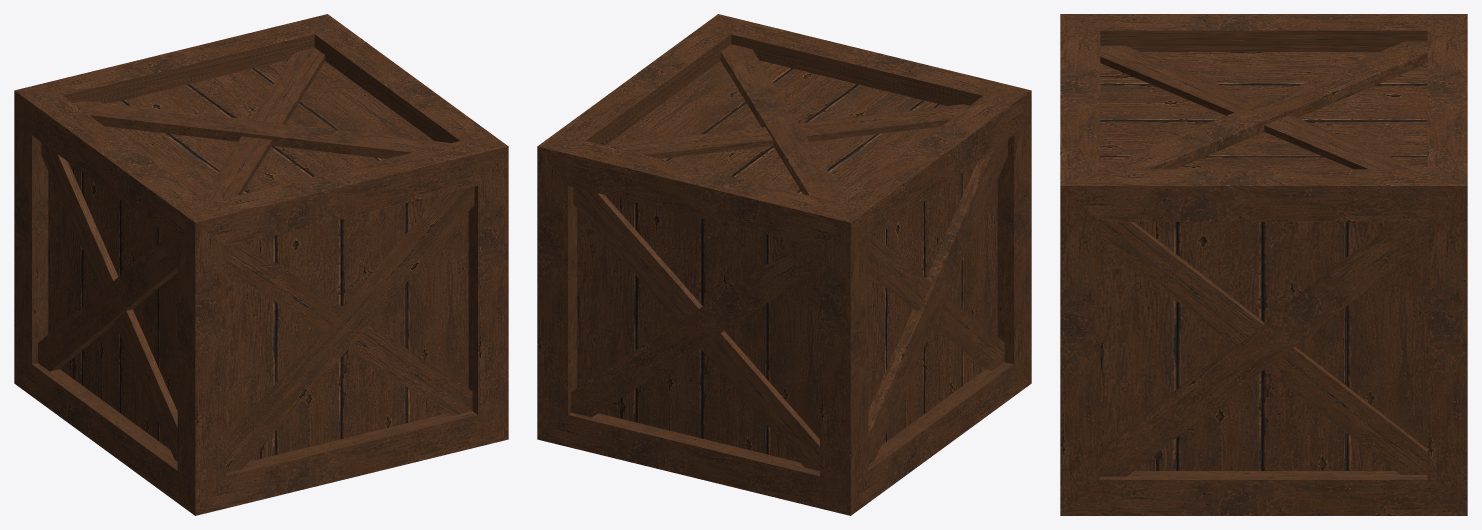
The model's file is Wood_Box_Empty_2_drop.fbx.
3 views of the same model, side by side, from view 1: azimuth 30°, elevation 25°; view 2: azimuth 150°, elevation 25°; view 3: azimuth 270°, elevation 25° (orthographic). The views are drawn at different scales.
Visible parts, largest first — view 1: Wood_Box_Empty_2_drop.019, Wood_Box_Empty_2_drop.002, Wood_Box_Empty_2_drop.000, Wood_Box_Empty_2_drop.001, Wood_Box_Empty_2_drop.005, Wood_Box_Empty_2_drop.010, Wood_Box_Empty_2_drop.009, Wood_Box_Empty_2_drop.007, Wood_Box_Empty_2_drop.015, Wood_Box_Empty_2_drop.016, Wood_Box_Empty_2_drop.008; view 2: Wood_Box_Empty_2_drop.019, Wood_Box_Empty_2_drop.000, Wood_Box_Empty_2_drop.004, Wood_Box_Empty_2_drop.001, Wood_Box_Empty_2_drop.005, Wood_Box_Empty_2_drop.013, Wood_Box_Empty_2_drop.014, Wood_Box_Empty_2_drop.016, Wood_Box_Empty_2_drop.008, Wood_Box_Empty_2_drop.007, Wood_Box_Empty_2_drop.015; view 3: Wood_Box_Empty_2_drop.019, Wood_Box_Empty_2_drop.003, Wood_Box_Empty_2_drop.000, Wood_Box_Empty_2_drop.001, Wood_Box_Empty_2_drop.012, Wood_Box_Empty_2_drop.011, Wood_Box_Empty_2_drop.007, Wood_Box_Empty_2_drop.008.
Boxes of the visible parts, box(x1,y1,x2,y2) form: Wood_Box_Empty_2_drop.019: box(14, 14, 508, 439); Wood_Box_Empty_2_drop.002: box(226, 195, 468, 461); Wood_Box_Empty_2_drop.000: box(14, 223, 508, 515); Wood_Box_Empty_2_drop.001: box(104, 59, 433, 197); Wood_Box_Empty_2_drop.005: box(48, 162, 177, 449); Wood_Box_Empty_2_drop.010: box(226, 187, 474, 472); Wood_Box_Empty_2_drop.009: box(226, 243, 472, 415); Wood_Box_Empty_2_drop.007: box(73, 100, 449, 158); Wood_Box_Empty_2_drop.015: box(41, 142, 177, 461); Wood_Box_Empty_2_drop.016: box(38, 236, 177, 371); Wood_Box_Empty_2_drop.008: box(202, 47, 324, 202); Wood_Box_Empty_2_drop.019: box(537, 14, 1031, 515); Wood_Box_Empty_2_drop.000: box(537, 91, 1031, 515); Wood_Box_Empty_2_drop.004: box(577, 195, 819, 462); Wood_Box_Empty_2_drop.001: box(606, 60, 946, 197); Wood_Box_Empty_2_drop.005: box(868, 162, 997, 445); Wood_Box_Empty_2_drop.013: box(573, 187, 819, 470); Wood_Box_Empty_2_drop.014: box(571, 242, 819, 417); Wood_Box_Empty_2_drop.016: box(868, 140, 1007, 464); Wood_Box_Empty_2_drop.008: box(605, 104, 969, 158); Wood_Box_Empty_2_drop.007: box(720, 44, 843, 202); Wood_Box_Empty_2_drop.015: box(868, 237, 1004, 370); Wood_Box_Empty_2_drop.019: box(1060, 14, 1467, 515); Wood_Box_Empty_2_drop.003: box(1100, 222, 1427, 470); Wood_Box_Empty_2_drop.000: box(1061, 186, 1467, 515); Wood_Box_Empty_2_drop.001: box(1100, 52, 1427, 169); Wood_Box_Empty_2_drop.012: box(1100, 222, 1427, 476); Wood_Box_Empty_2_drop.011: box(1100, 222, 1427, 474); Wood_Box_Empty_2_drop.007: box(1100, 41, 1427, 169); Wood_Box_Empty_2_drop.008: box(1100, 45, 1419, 169).
Size of the model in its own units: 57.17 by 51.11 by 57.17.
